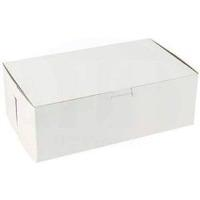undamaged: (0, 34, 198, 166)
